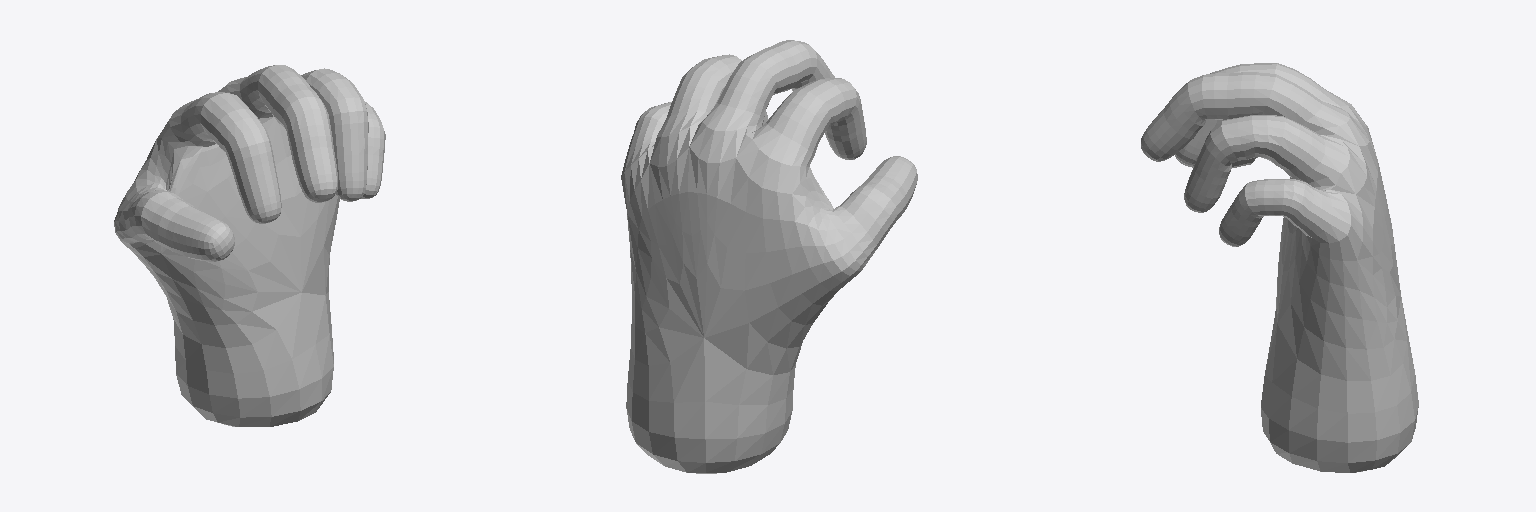
The model's file is handanimatsion47.obj.
3 renders of one model, left to right at view 1: azimuth 30°, elevation 25°; view 2: azimuth 150°, elevation 25°; view 3: azimuth 270°, elevation 25°, orthographic.
Parts seen in each view (by area): view 1: Cube; view 2: Cube; view 3: Cube.
Boxes of the visible parts, x1=… form: Cube: x1=114, y1=65, x2=385, y2=426; Cube: x1=621, y1=40, x2=917, y2=473; Cube: x1=1141, y1=63, x2=1418, y2=472.
Bounding box in the file's own units: 3.15 × 4.65 × 3.1.